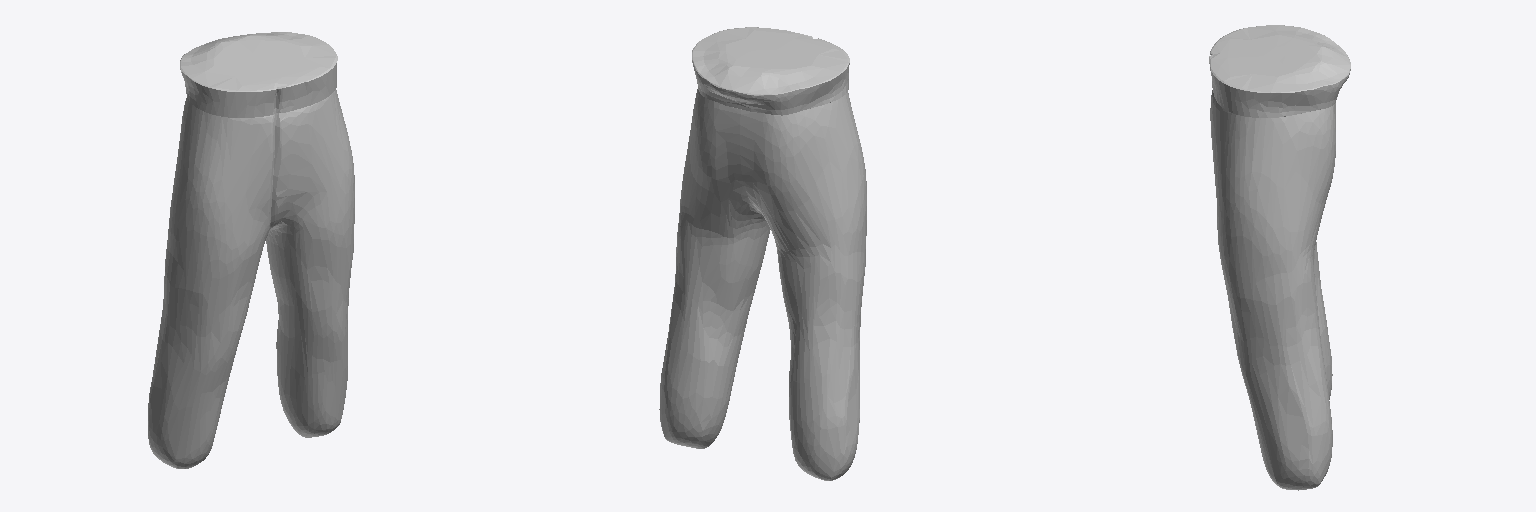
The model's file is Thug01_pants.OBJ.
The picture shows the model from 3 angles: view 1: azimuth 30°, elevation 25°; view 2: azimuth 150°, elevation 25°; view 3: azimuth 270°, elevation 25°; orthographic projection.
Visible parts, largest first — view 1: Group3015; view 2: Group3015; view 3: Group3015.
Boxes of the visible parts, box(x1,y1,x2,y2) form: Group3015: box(148, 32, 354, 468); Group3015: box(659, 27, 866, 480); Group3015: box(1209, 25, 1350, 490).
Size of the model in its own units: 4.63 by 9.52 by 3.03.